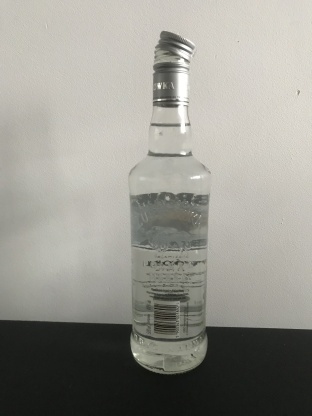nakretka: (150, 27, 197, 107)
